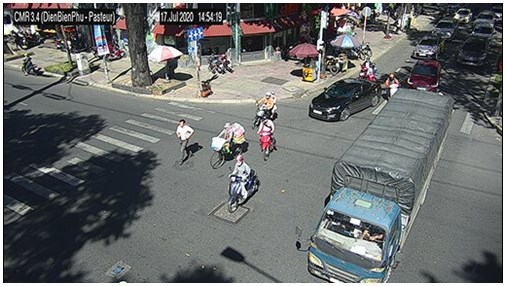di_bo: (175, 118, 195, 166)
xe_dap: (208, 122, 248, 168)
xe_hoi: (308, 78, 381, 121), (407, 58, 442, 93), (455, 36, 490, 67), (412, 35, 446, 59), (470, 22, 496, 42), (474, 10, 497, 28), (453, 9, 473, 23)
xe_may: (227, 155, 259, 213), (253, 90, 279, 128), (258, 116, 276, 163), (21, 52, 39, 78), (359, 56, 377, 81), (384, 72, 398, 98), (367, 70, 381, 94)
xe_tai: (306, 88, 454, 282)
xe_taxi: (432, 19, 454, 38)
